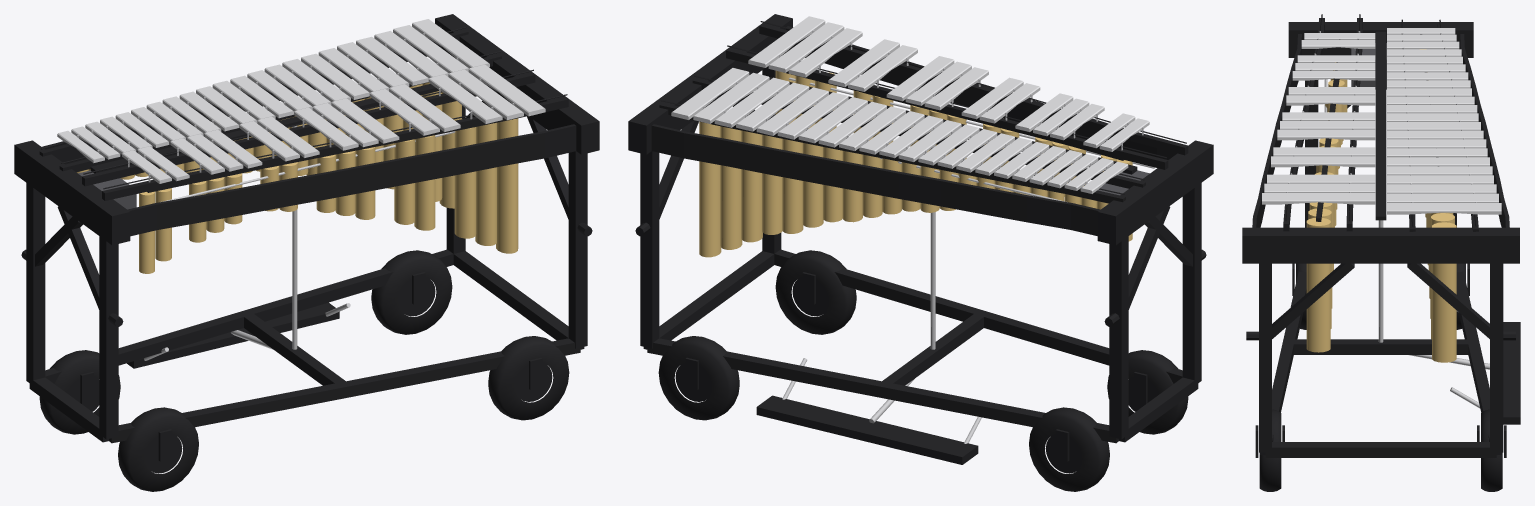
The model's file is vibraphone-3.0.glb.
The picture shows the model from 3 angles, left to right: view 1: azimuth 30°, elevation 25°; view 2: azimuth 150°, elevation 25°; view 3: azimuth 270°, elevation 25°; orthographic projection. The views are drawn at different scales.
Visible parts, largest first — view 1: frame, bars-silver, resonators-gold, artwork, metal; view 2: frame, bars-silver, resonators-gold, metal; view 3: frame, bars-silver, resonators-gold, metal, panel.
Part boxes in pixels (box(x1,y1,x2,y2)): frame: box(14, 14, 599, 491); bars-silver: box(57, 19, 545, 183); resonators-gold: box(76, 82, 518, 273); artwork: box(129, 126, 576, 236); metal: box(77, 33, 514, 360); frame: box(628, 14, 1213, 491); bars-silver: box(671, 16, 1149, 193); resonators-gold: box(699, 70, 1132, 257); metal: box(703, 30, 1154, 443); frame: box(1242, 14, 1520, 491); bars-silver: box(1262, 28, 1501, 214); resonators-gold: box(1306, 49, 1456, 362); metal: box(1286, 31, 1489, 408); panel: box(1351, 43, 1386, 89).
Size of the model in its own units: 1.53 by 0.9789 by 0.8406.
